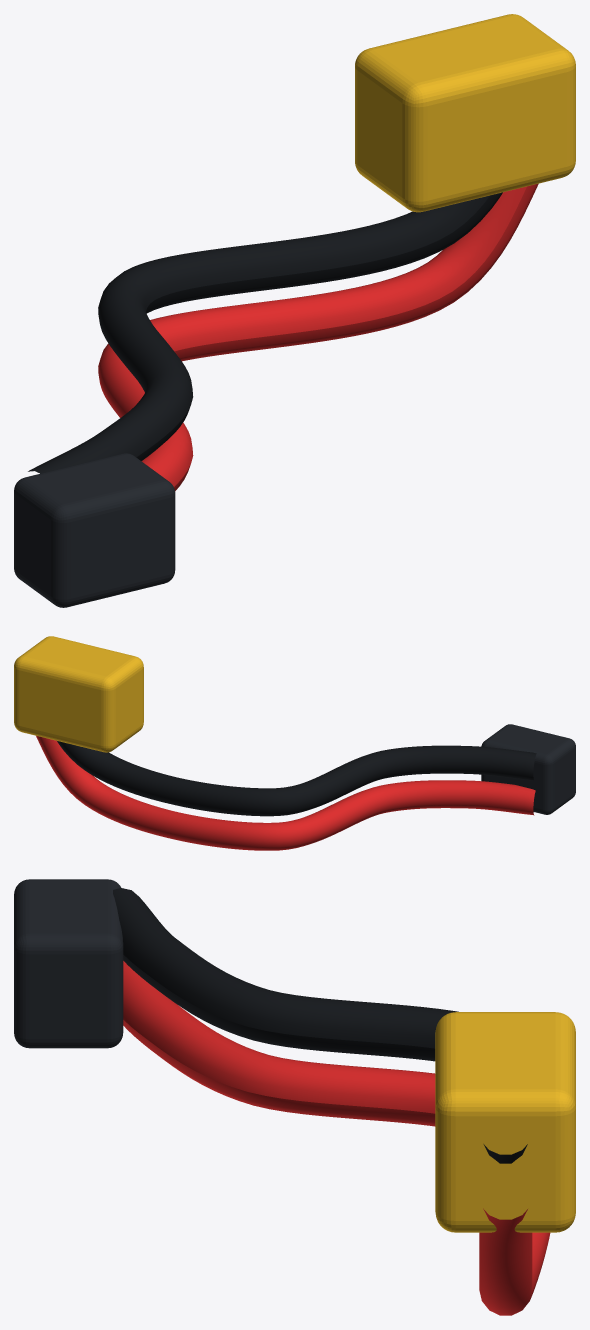
Rendered from xt60-openesc-battery-harness.glb.
3 views of the same model, one above another, from view 1: azimuth 30°, elevation 25°; view 2: azimuth 150°, elevation 25°; view 3: azimuth 270°, elevation 25° (orthographic). The views are drawn at different scales.
Parts seen in each view (by area): view 1: XT60_12AWG_to_OpenESC_installed_harness; view 2: XT60_12AWG_to_OpenESC_installed_harness; view 3: XT60_12AWG_to_OpenESC_installed_harness.
Part boxes in pixels (x1,y1,x2,y2): XT60_12AWG_to_OpenESC_installed_harness: [14, 14, 575, 607]; XT60_12AWG_to_OpenESC_installed_harness: [14, 636, 575, 850]; XT60_12AWG_to_OpenESC_installed_harness: [14, 879, 575, 1315].
Size of the model in its own units: 0.0592 by 0.0205 by 0.036.
